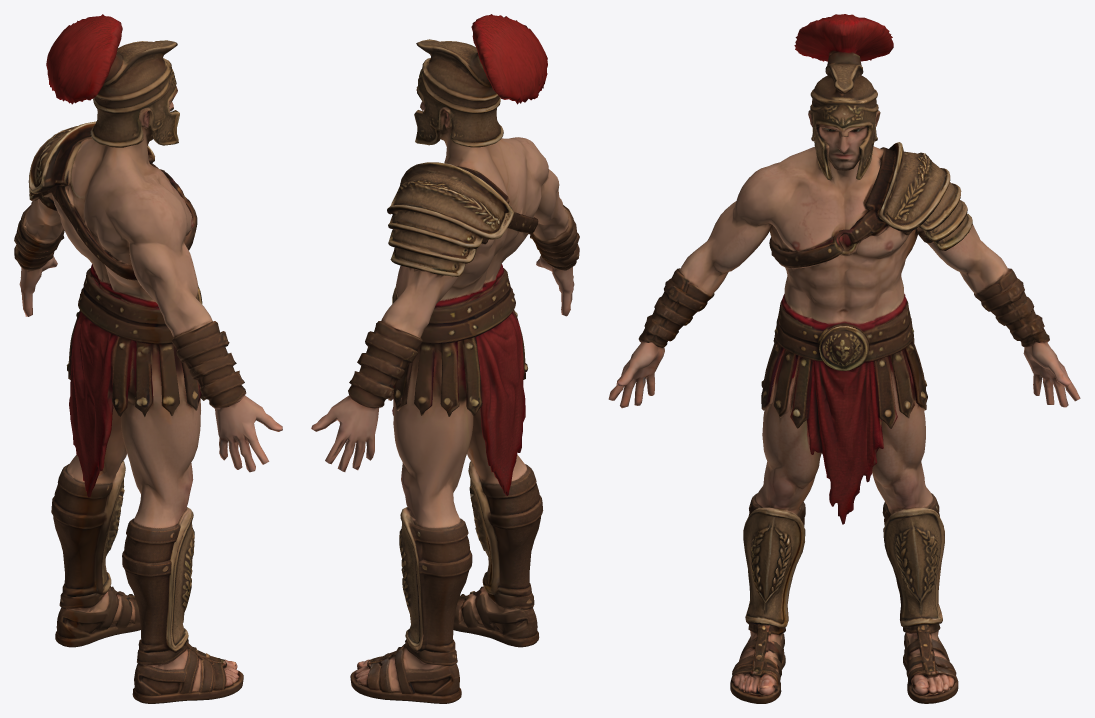
The model's file is raw.glb.
3 renders of one model, left to right at view 1: azimuth 30°, elevation 25°; view 2: azimuth 150°, elevation 25°; view 3: azimuth 270°, elevation 25°, orthographic.
Visible parts, largest first — view 1: tripo_node_6c26777e-a610-43c0-b399-05eefd86e300; view 2: tripo_node_6c26777e-a610-43c0-b399-05eefd86e300; view 3: tripo_node_6c26777e-a610-43c0-b399-05eefd86e300.
Part boxes in pixels (<box>): tripo_node_6c26777e-a610-43c0-b399-05eefd86e300: <box>14,14,282,703</box>; tripo_node_6c26777e-a610-43c0-b399-05eefd86e300: <box>311,14,579,703</box>; tripo_node_6c26777e-a610-43c0-b399-05eefd86e300: <box>608,14,1080,703</box>.
Bounding box in the file's own units: 0.2297 × 1 × 0.6646.
1 material, 1 textured.
